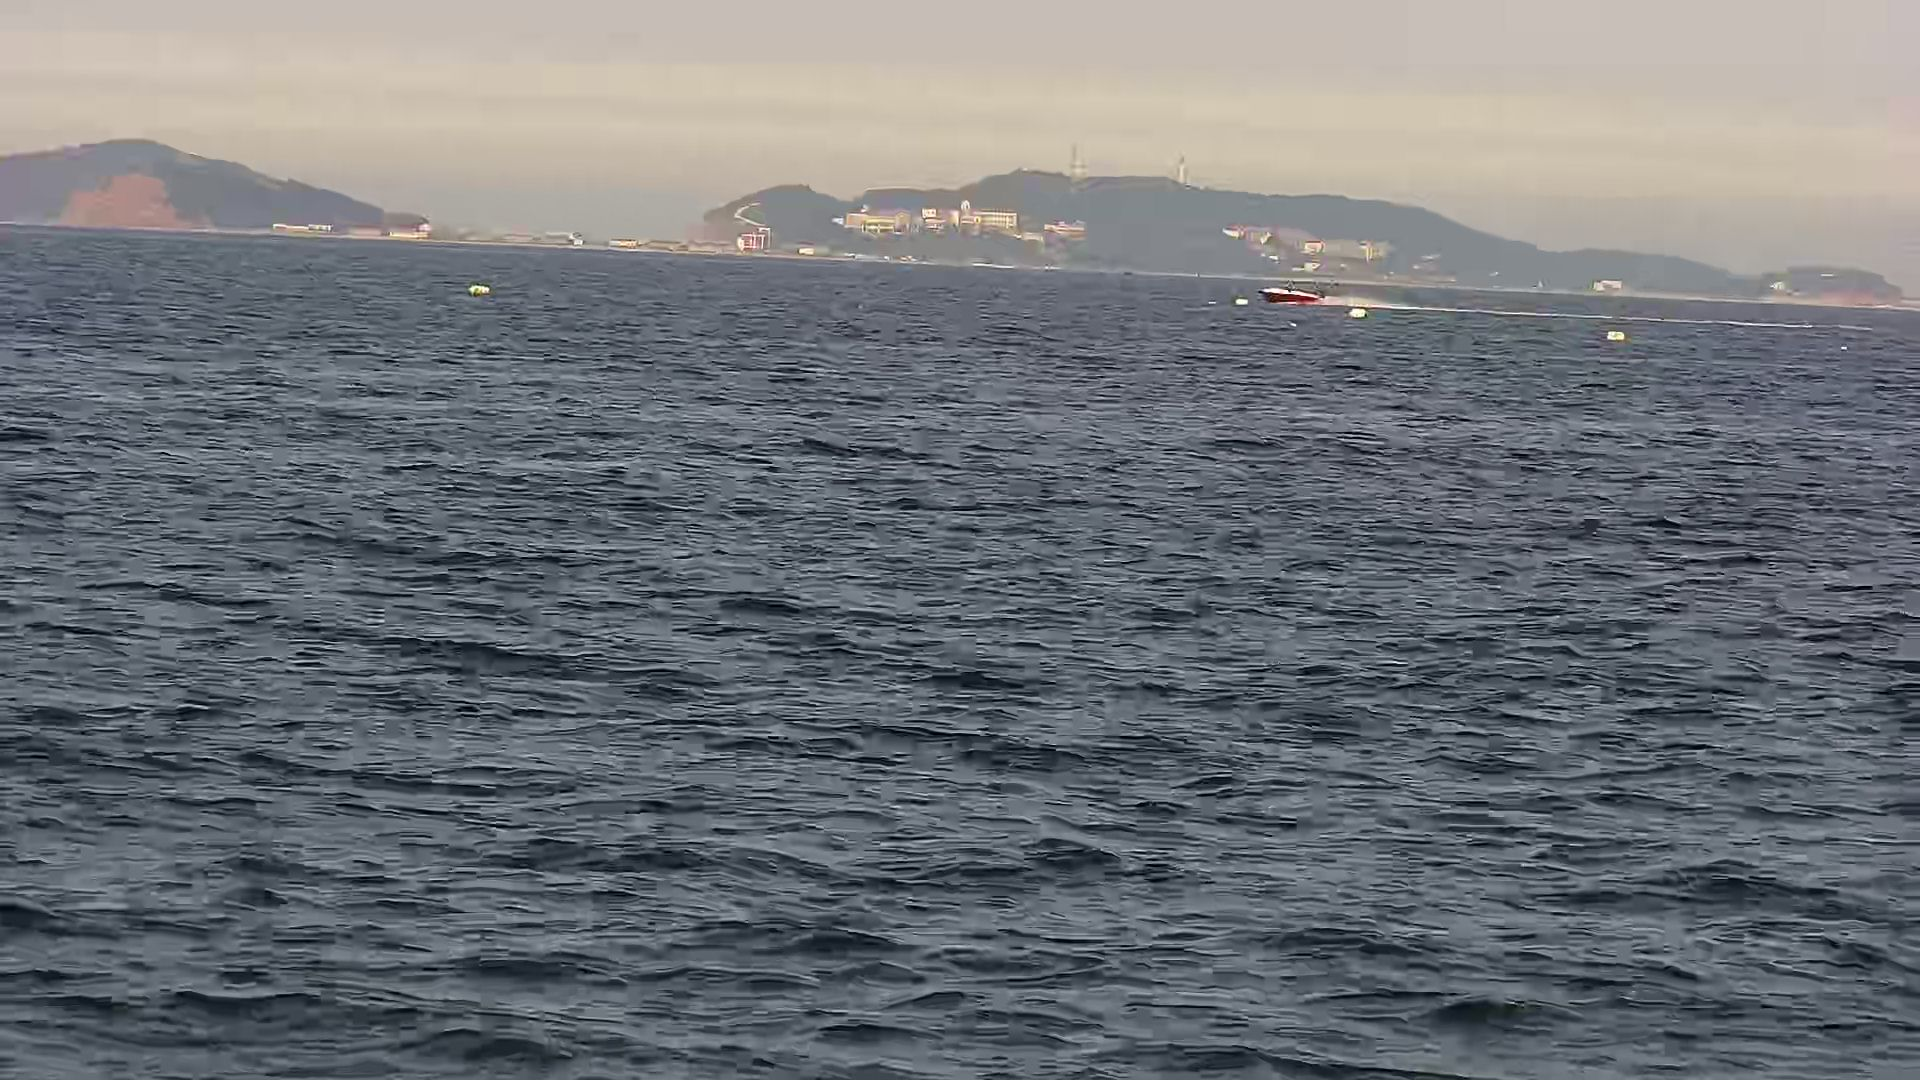boat: (1258, 268, 1327, 313)
rock: (462, 277, 497, 301), (1600, 324, 1629, 345)
